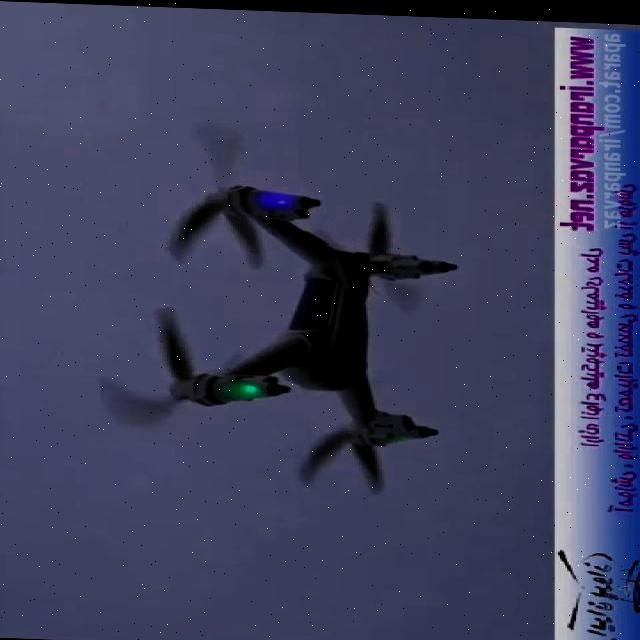drone: (88, 110, 468, 499)
